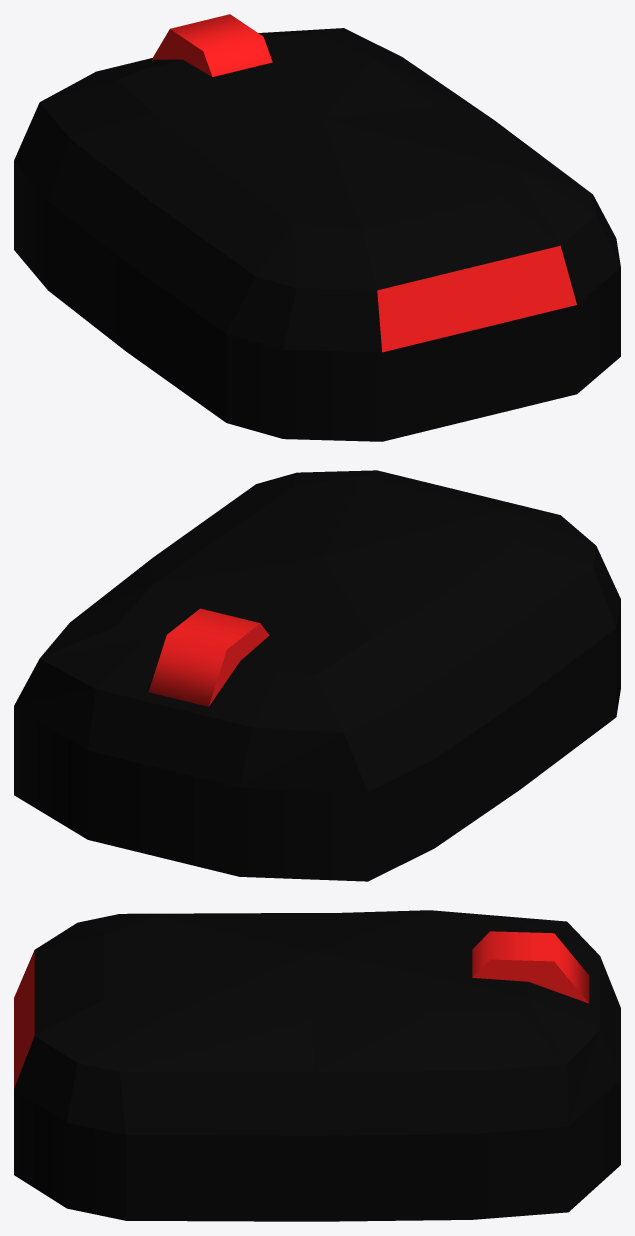
Rendered from Mouse.fbx.
The picture shows the model from 3 angles, top to bottom: view 1: azimuth 30°, elevation 25°; view 2: azimuth 150°, elevation 25°; view 3: azimuth 270°, elevation 25°; orthographic projection. The views are drawn at different scales.
Parts seen in each view (by area): view 1: Line005; view 2: Line005; view 3: Line005.
Part boxes in pixels (x1,y1,x2,y2): Line005: [14, 14, 620, 441]; Line005: [14, 470, 620, 881]; Line005: [14, 910, 620, 1221].
Size of the model in its own units: 26.31 by 12.27 by 36.53.
